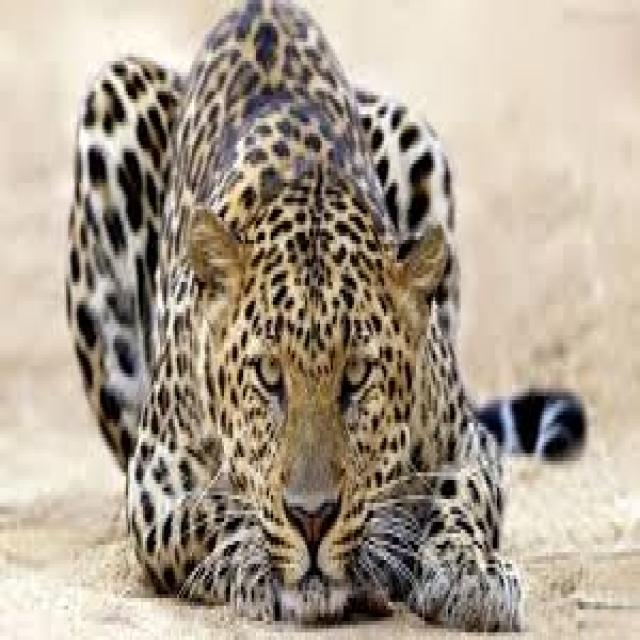Jaguar: (64, 0, 525, 640)
